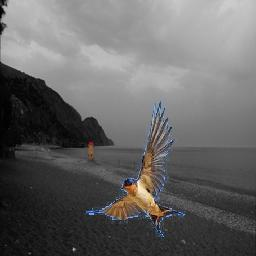Swallow: (85, 101, 185, 238)
